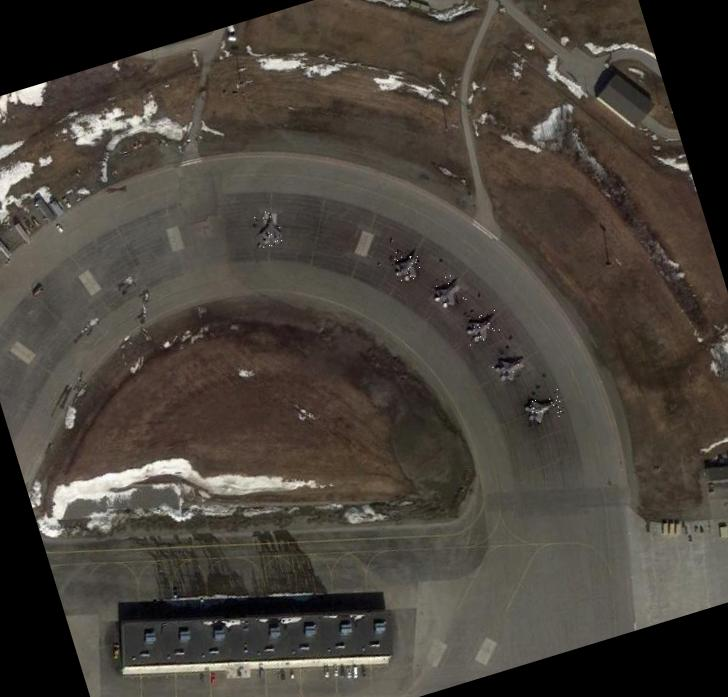A15: (488, 348, 532, 386), (521, 389, 565, 426), (462, 309, 503, 345), (430, 270, 468, 308), (388, 244, 423, 283), (253, 208, 284, 248)
